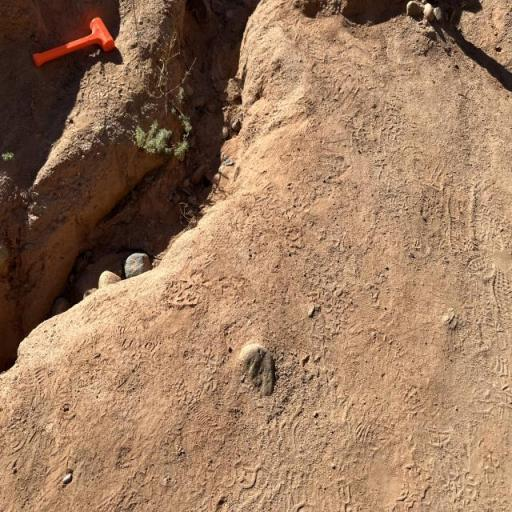mallet: (32, 17, 115, 67)
